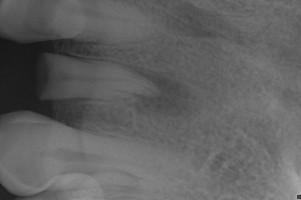Furcation Involvement: (133, 67, 199, 116)
